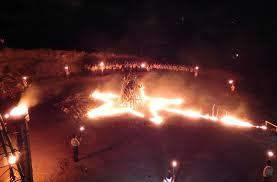fire: (86, 84, 183, 122), (187, 101, 267, 131), (3, 104, 28, 118), (6, 152, 19, 165), (169, 156, 179, 168), (266, 146, 274, 159), (227, 76, 235, 87), (78, 124, 86, 133), (140, 61, 147, 70), (193, 65, 202, 71), (22, 74, 28, 82), (64, 64, 70, 71), (98, 60, 105, 66)
